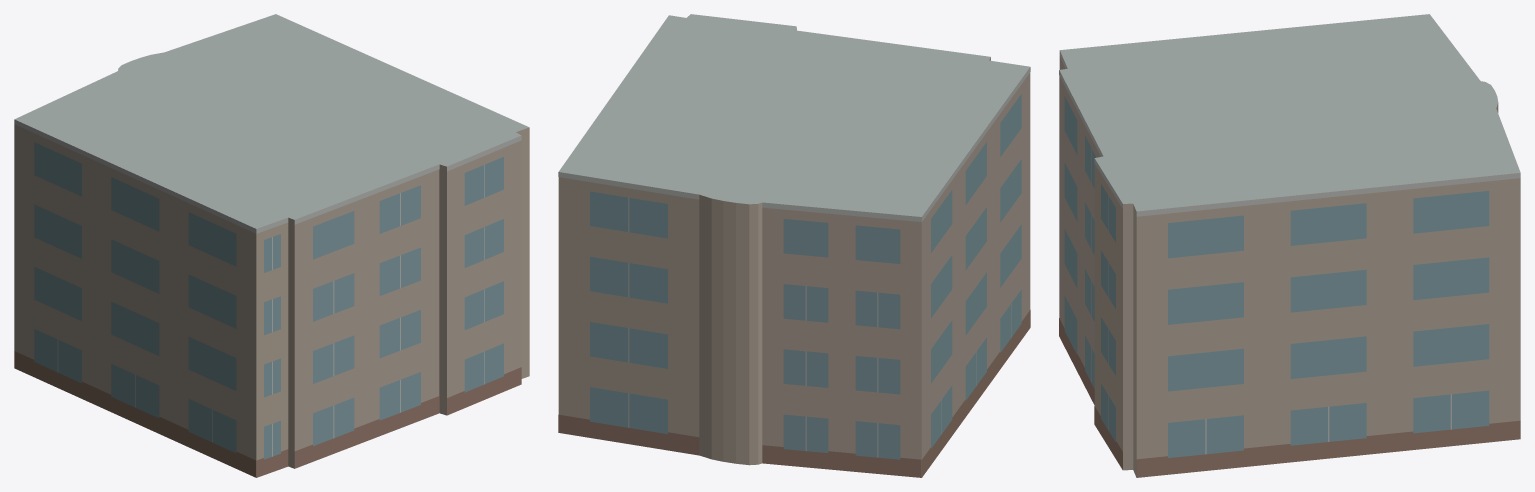
Rendered from survey-upis-32641548.glb.
3 renders of one model, left to right at view 1: azimuth 30°, elevation 25°; view 2: azimuth 150°, elevation 25°; view 3: azimuth 270°, elevation 25°, orthographic. The views are drawn at different scales.
Visible parts, largest first — view 1: survey-upis-32641548.tmp; view 2: survey-upis-32641548.tmp; view 3: survey-upis-32641548.tmp.
Part boxes in pixels (x1=…): survey-upis-32641548.tmp: x1=14, y1=14, x2=529, y2=477; survey-upis-32641548.tmp: x1=558, y1=14, x2=1030, y2=477; survey-upis-32641548.tmp: x1=1059, y1=14, x2=1520, y2=477.
Bounding box in the file's own units: 19.73 × 12.4 × 19.48.
